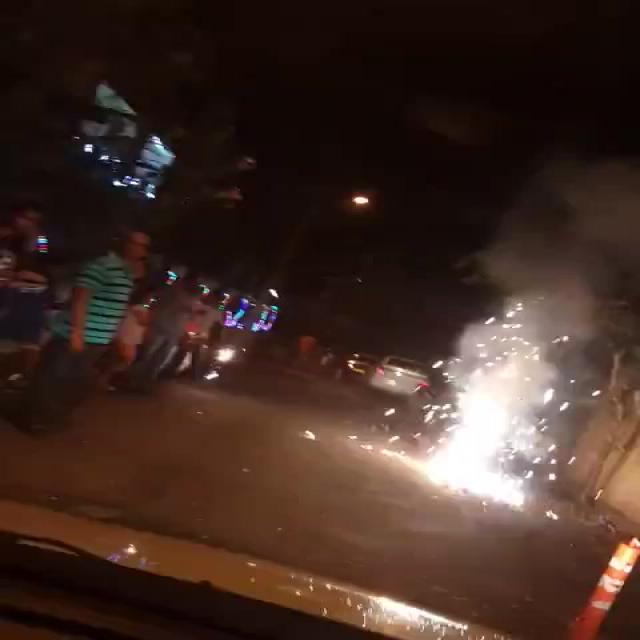Fire: (433, 364, 517, 502)
Smoke: (471, 169, 640, 341)
